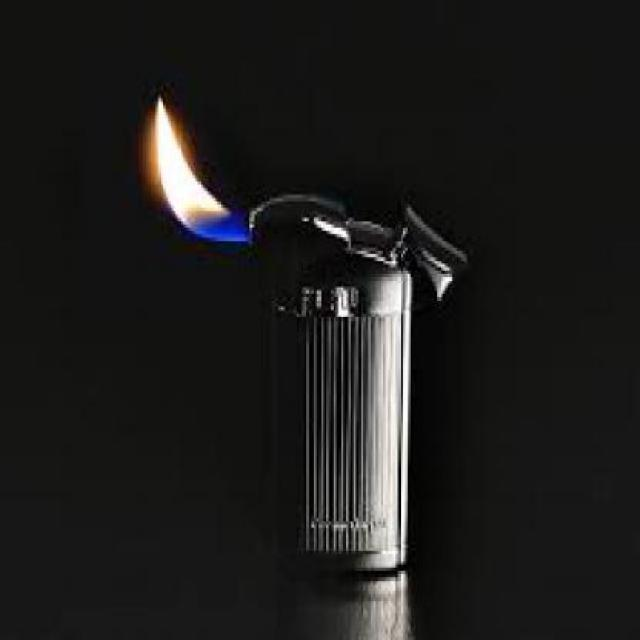Fire: (136, 88, 253, 247)
